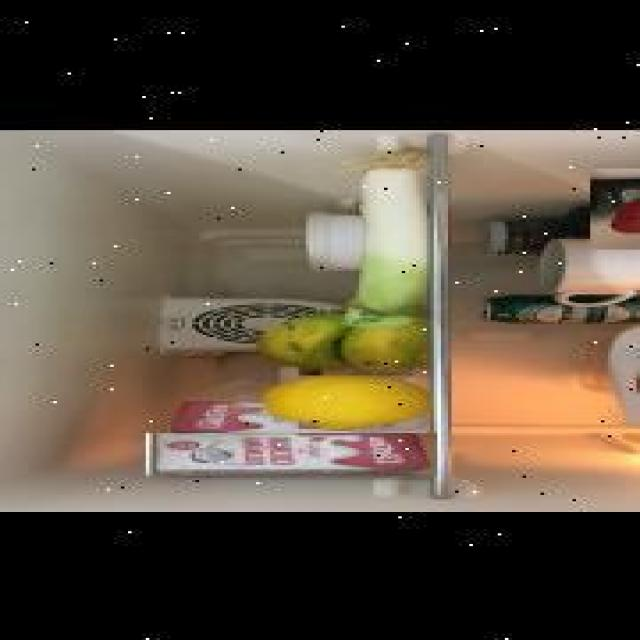banana: (258, 307, 350, 367)
bell_pepper: (590, 166, 640, 248)
heavy_cream: (148, 431, 439, 474)
leek: (336, 146, 428, 313)
lemon: (251, 370, 446, 430)
